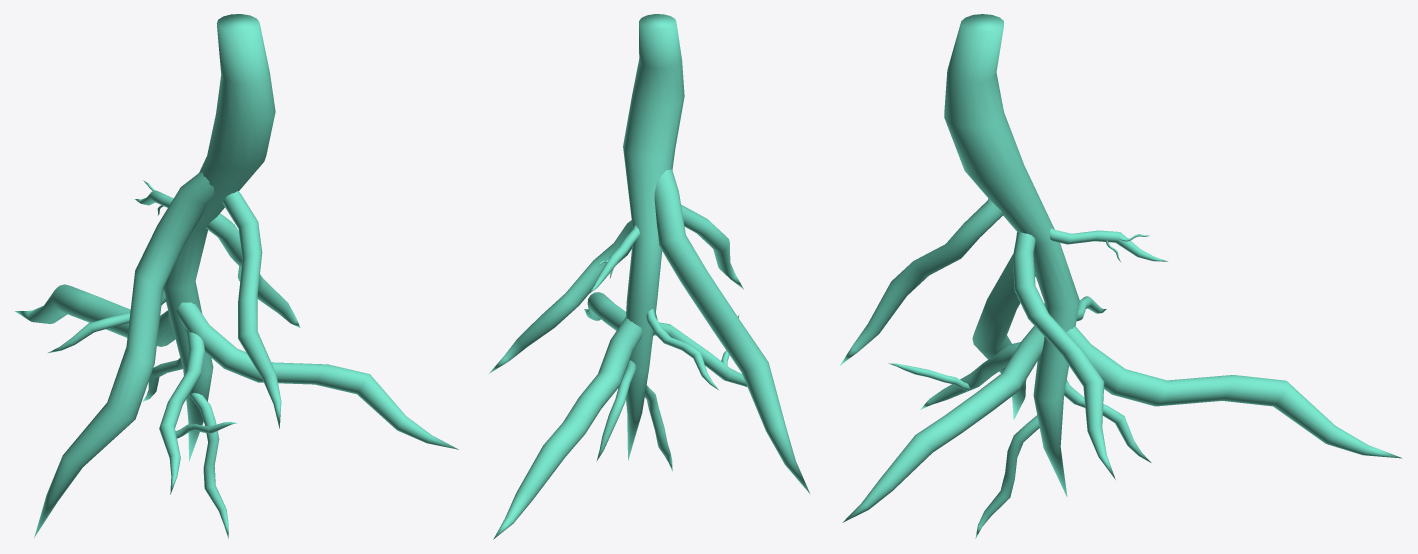
The model's file is Raiz Cheia 1.fbx.
3 renders of one model, left to right at view 1: azimuth 30°, elevation 25°; view 2: azimuth 150°, elevation 25°; view 3: azimuth 270°, elevation 25°, orthographic. The views are drawn at different scales.
Parts seen in each view (by area): view 1: Raiz 2; view 2: Raiz 2; view 3: Raiz 2.
Boxes of the visible parts, <box> form: Raiz 2: <box>15,14,458,538</box>; Raiz 2: <box>489,14,810,539</box>; Raiz 2: <box>840,14,1402,538</box>.
Bounding box in the file's own units: 309 × 442 × 432.
